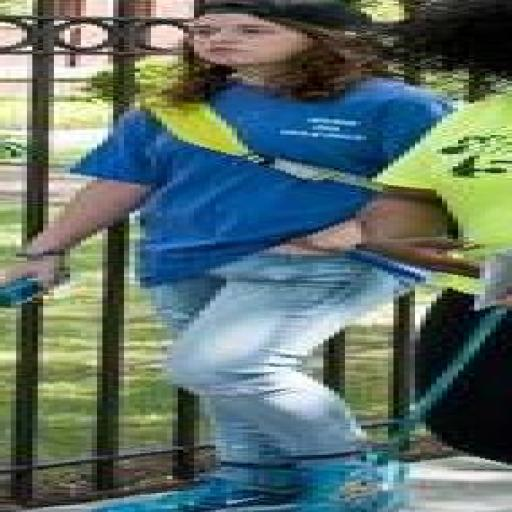person: (11, 0, 452, 511), (367, 0, 511, 392)
